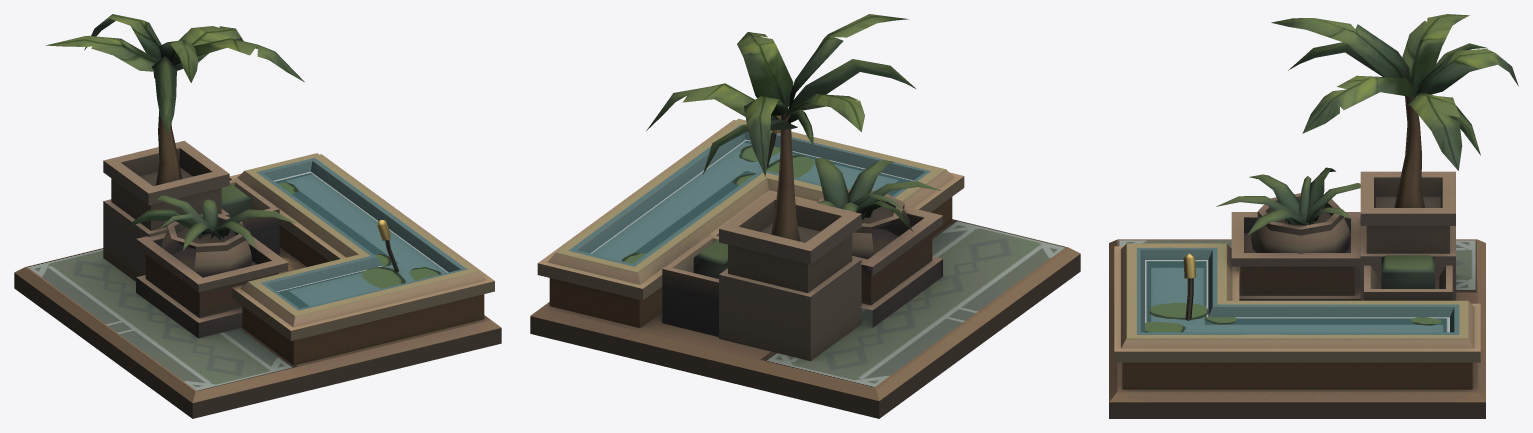
File: trap_463_xbsightb.fbx
The picture shows the model from 3 angles, left to right: view 1: azimuth 30°, elevation 25°; view 2: azimuth 150°, elevation 25°; view 3: azimuth 270°, elevation 25°; orthographic projection. The views are drawn at different scales.
Parts seen in each view (by area): view 1: trap_463_xbsightb; view 2: trap_463_xbsightb; view 3: trap_463_xbsightb.
Boxes of the visible parts, <box> form: trap_463_xbsightb: <box>14,14,501,418</box>; trap_463_xbsightb: <box>530,14,1080,418</box>; trap_463_xbsightb: <box>1109,14,1518,418</box>.
Bounding box in the file's own units: 1 × 0.8469 × 1.09.
Materials: 1 (1 with a texture image).
